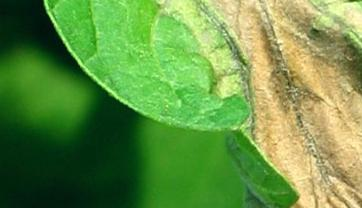Tomato leaf late blight: (29, 0, 362, 208)
